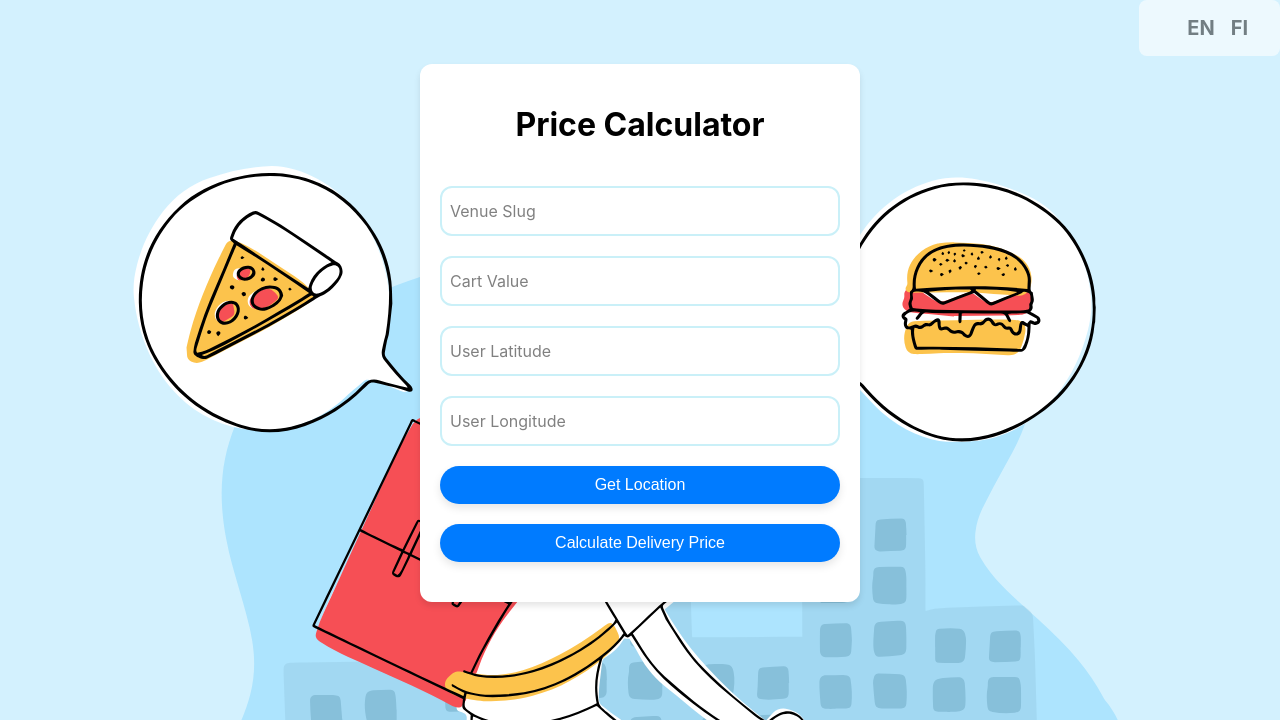
it: Price Calculation › Cart value below minimum with surcharge
# Fill out the form
Type "home-assignment-venue-helsinki" into the field with test id "venueSlug" at [640, 211], box [440, 186, 840, 236]
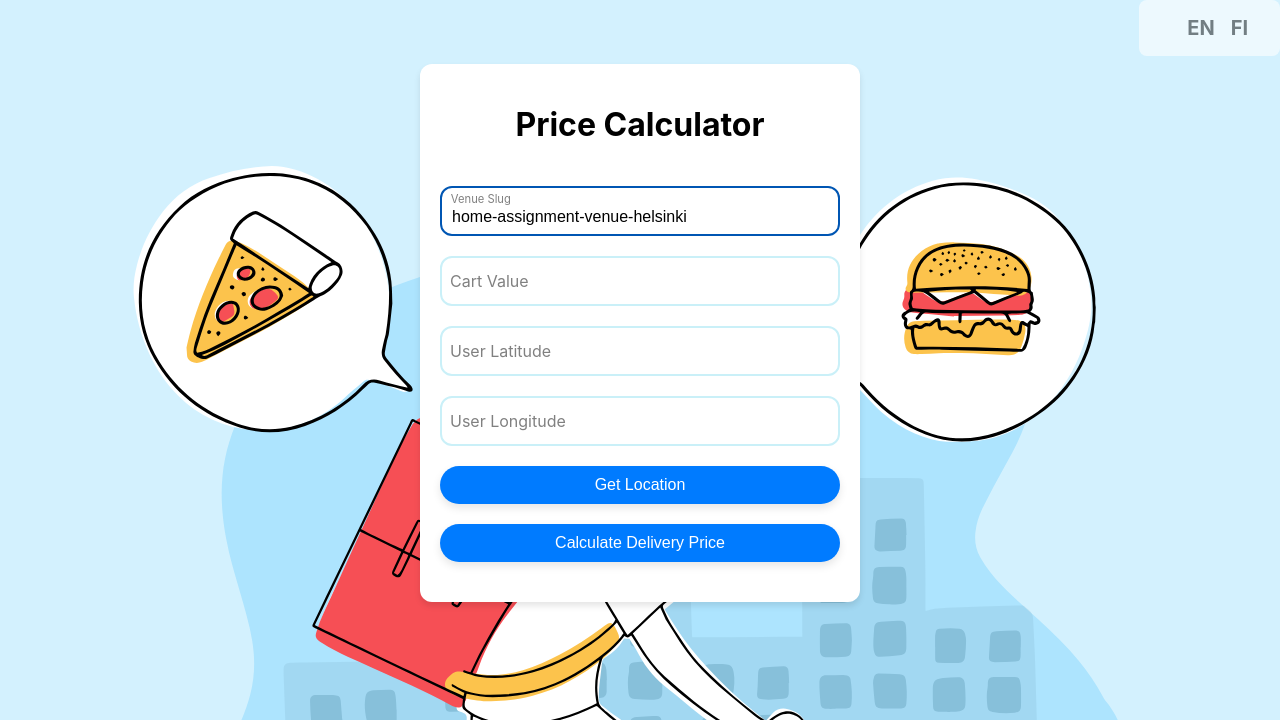
Type "8" into the field with test id "cartValue" at [640, 281], box [440, 256, 840, 306]
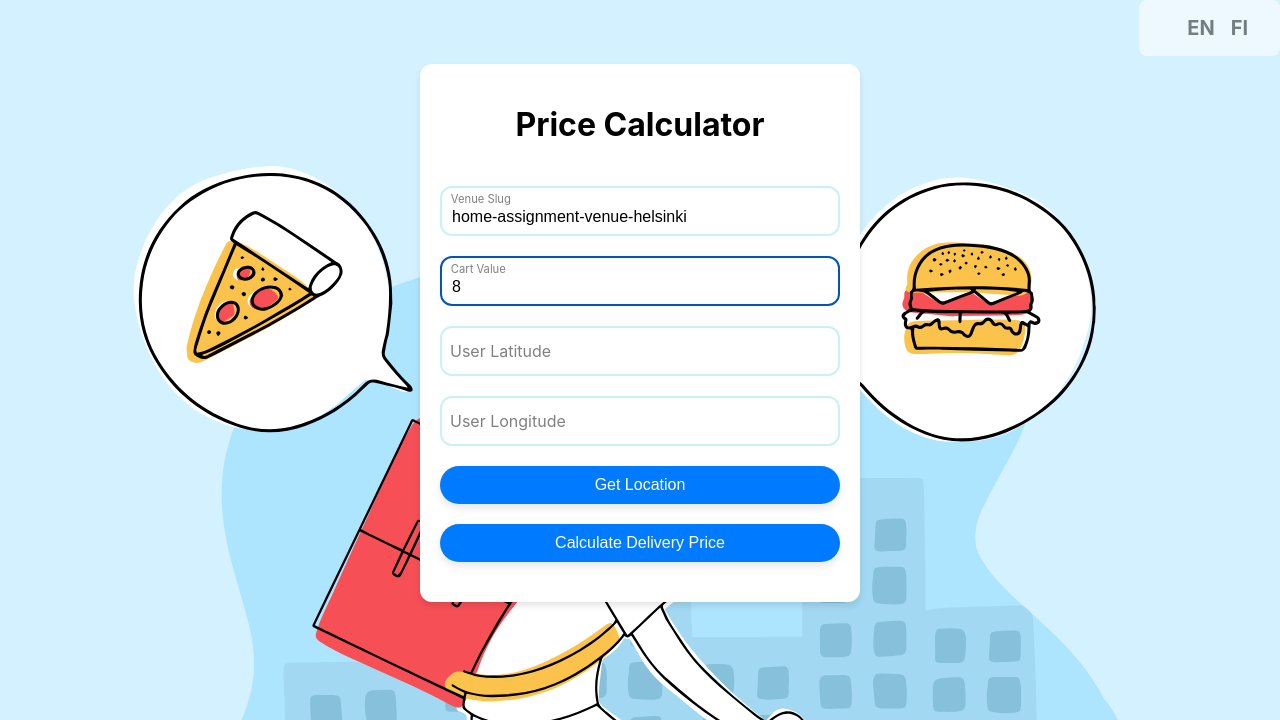
Type "60.169757" into the field with test id "userLatitude" at [640, 351], box [440, 326, 840, 376]
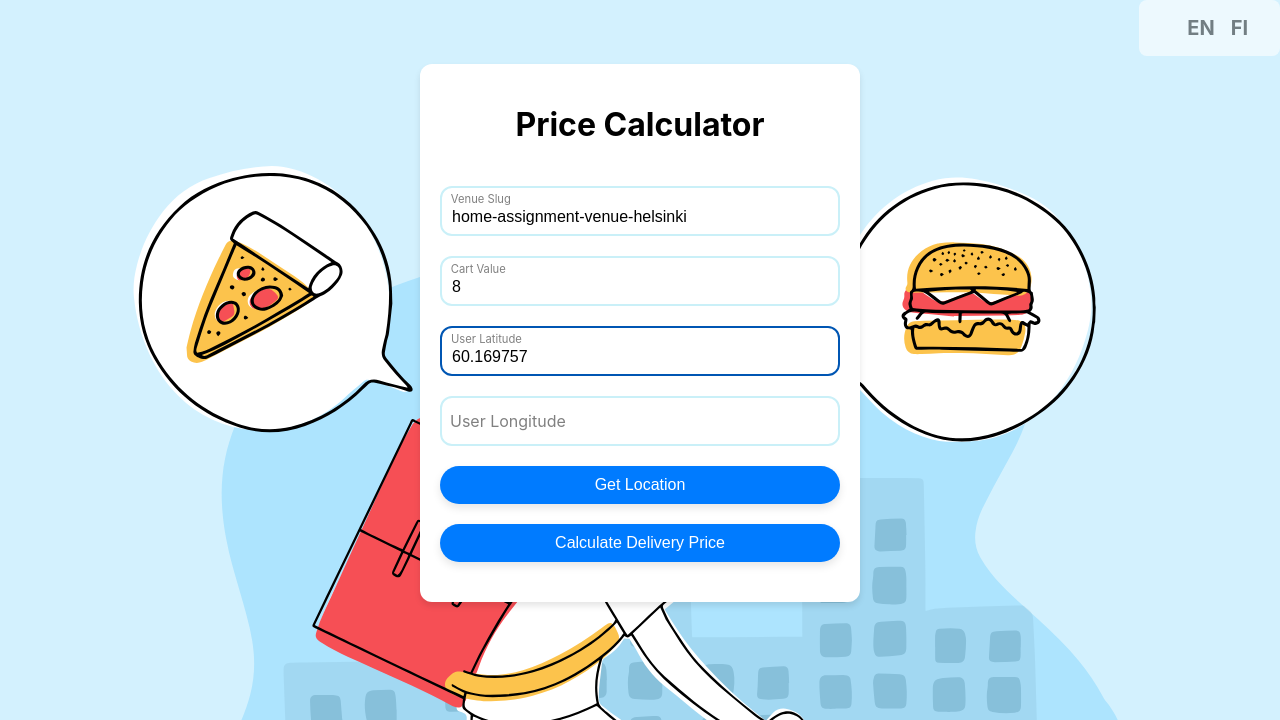
Type "24.928135" into the field with test id "userLongitude" at [640, 421], box [440, 396, 840, 446]
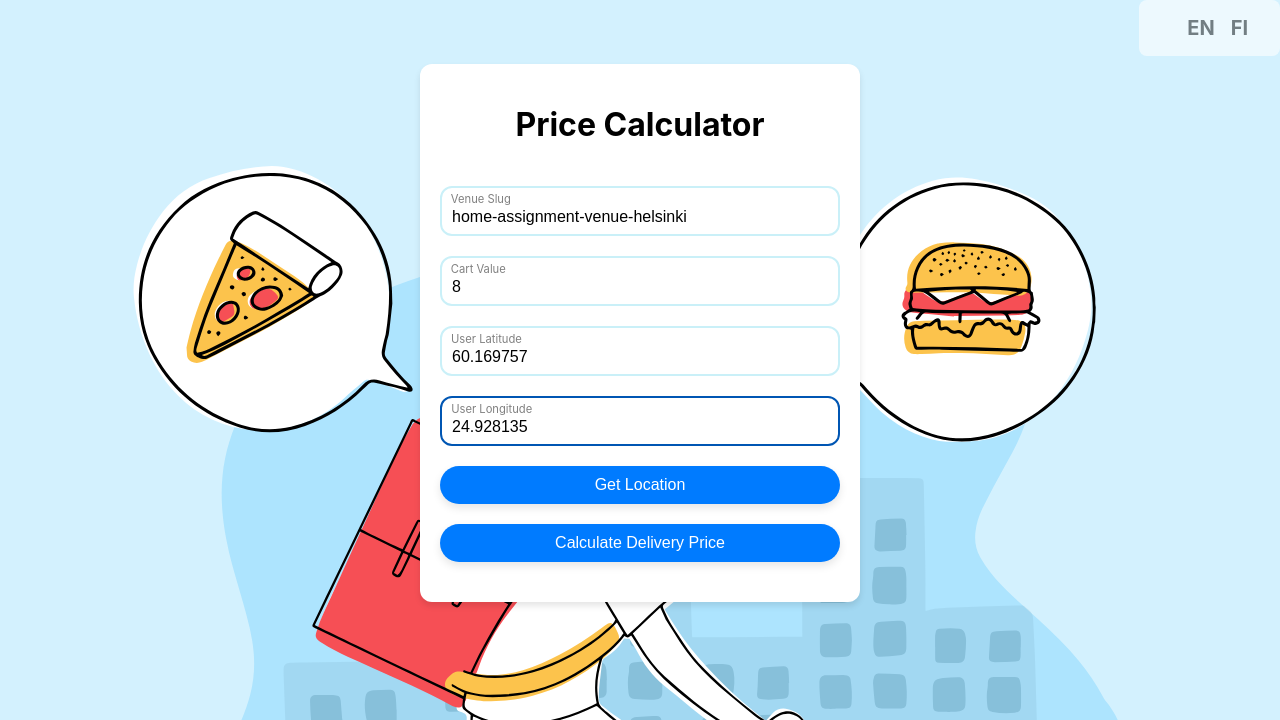
# Click the calculate button
Click the button with test id "calculateDeliveryPrice" at [640, 543], box [440, 524, 840, 562]
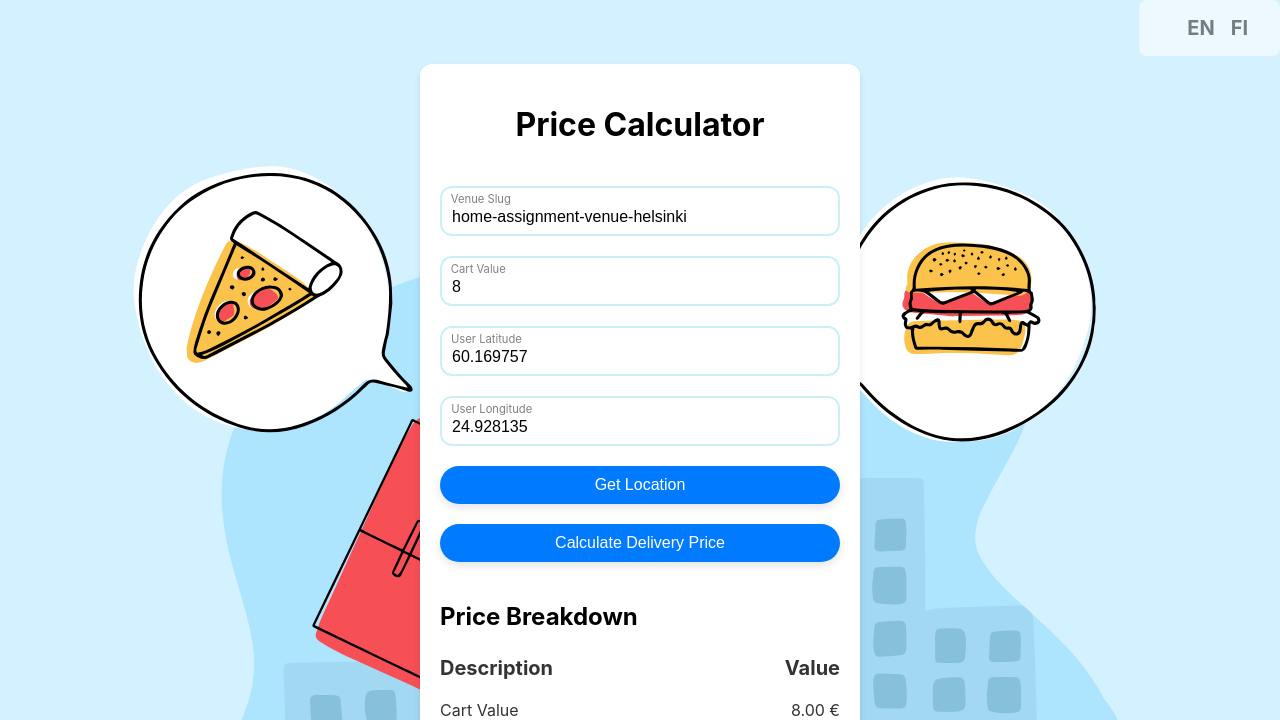
Result: the cell with test id "priceCartValue" reads "8.00 €" at [791, 700, 840, 719]
